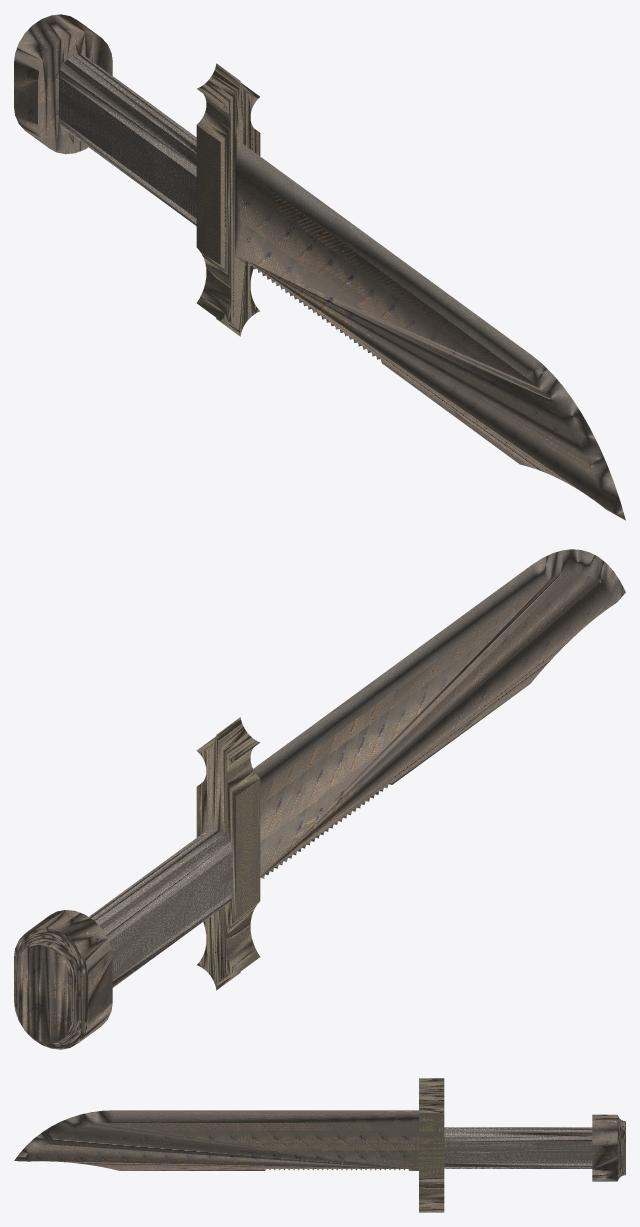
The model's file is model_align.obj.
3 views of the same model, one above another, from view 1: azimuth 30°, elevation 25°; view 2: azimuth 150°, elevation 25°; view 3: azimuth 270°, elevation 25° (orthographic). The views are drawn at different scales.
Bounding box in the file's own units: 0.0151 × 0.0494 × 0.2039.
